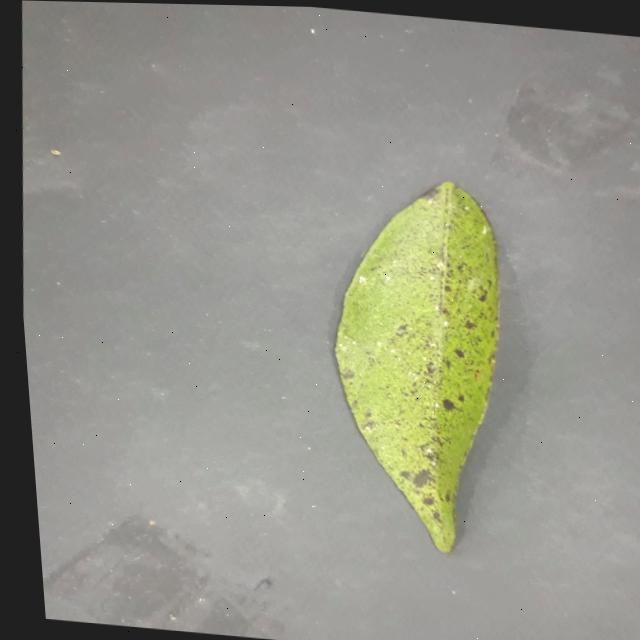greasy_spot: (334, 181, 498, 551)
